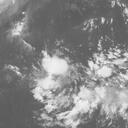cyclone: (40, 52, 68, 76)
